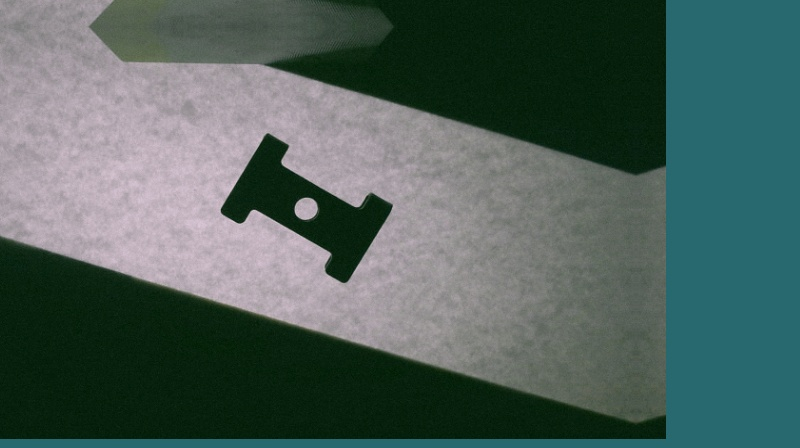O002: (215, 131, 396, 283)
